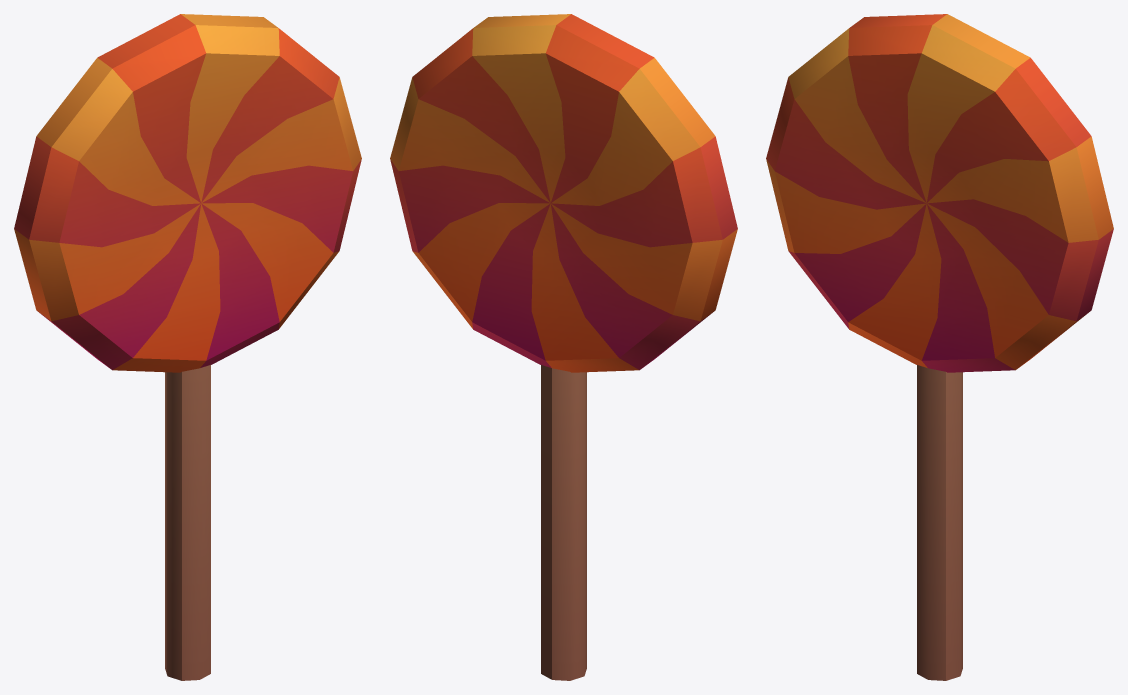
The model's file is lollipop_orange.gltf.
The picture shows the model from 3 angles, left to right: view 1: azimuth 30°, elevation 25°; view 2: azimuth 150°, elevation 25°; view 3: azimuth 330°, elevation 25°; orthographic projection.
Visible parts, largest first — view 1: lollipop_orange; view 2: lollipop_orange; view 3: lollipop_orange.
Part boxes in pixels (left/top/right/bottom): lollipop_orange: left=14, top=14, right=361, bottom=680; lollipop_orange: left=390, top=14, right=737, bottom=680; lollipop_orange: left=766, top=14, right=1113, bottom=680.
Bounding box in the file's own units: 0.65 × 1.23 × 0.1239.
Materials: 1 (1 with a texture image).
